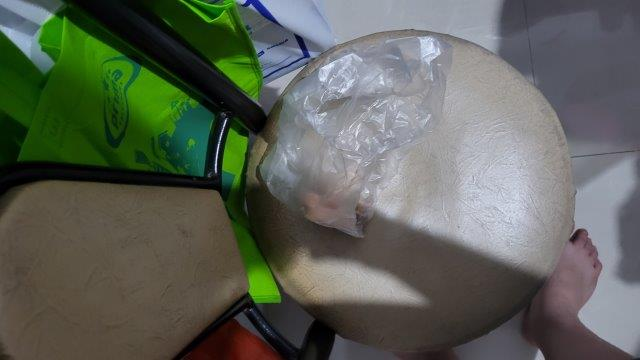plastik: (265, 35, 450, 234)
